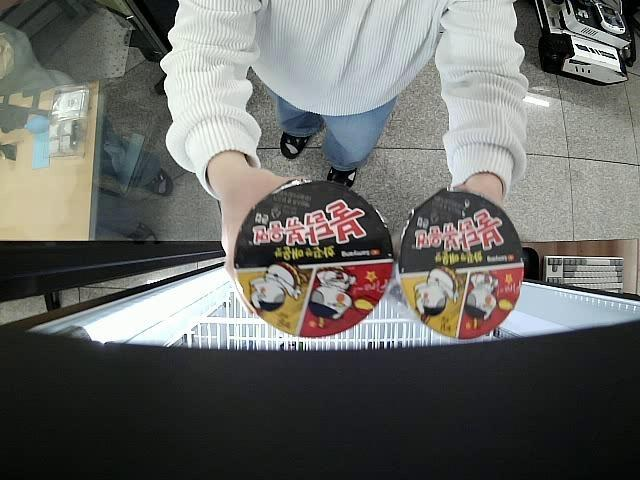07_buldak_L: (232, 177, 395, 338)
